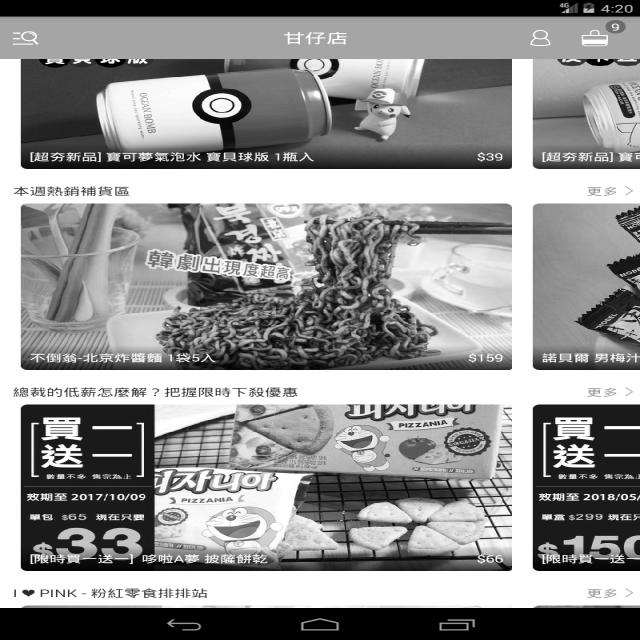ImageButton: (572, 22, 622, 48), (9, 27, 58, 47), (507, 32, 554, 51)
ImageView: (14, 402, 514, 574), (12, 206, 509, 370), (17, 57, 515, 169), (522, 397, 631, 569), (527, 203, 627, 369), (525, 59, 635, 171)
TextView: (19, 581, 222, 604), (16, 384, 327, 396), (16, 182, 134, 200), (283, 24, 362, 48)
